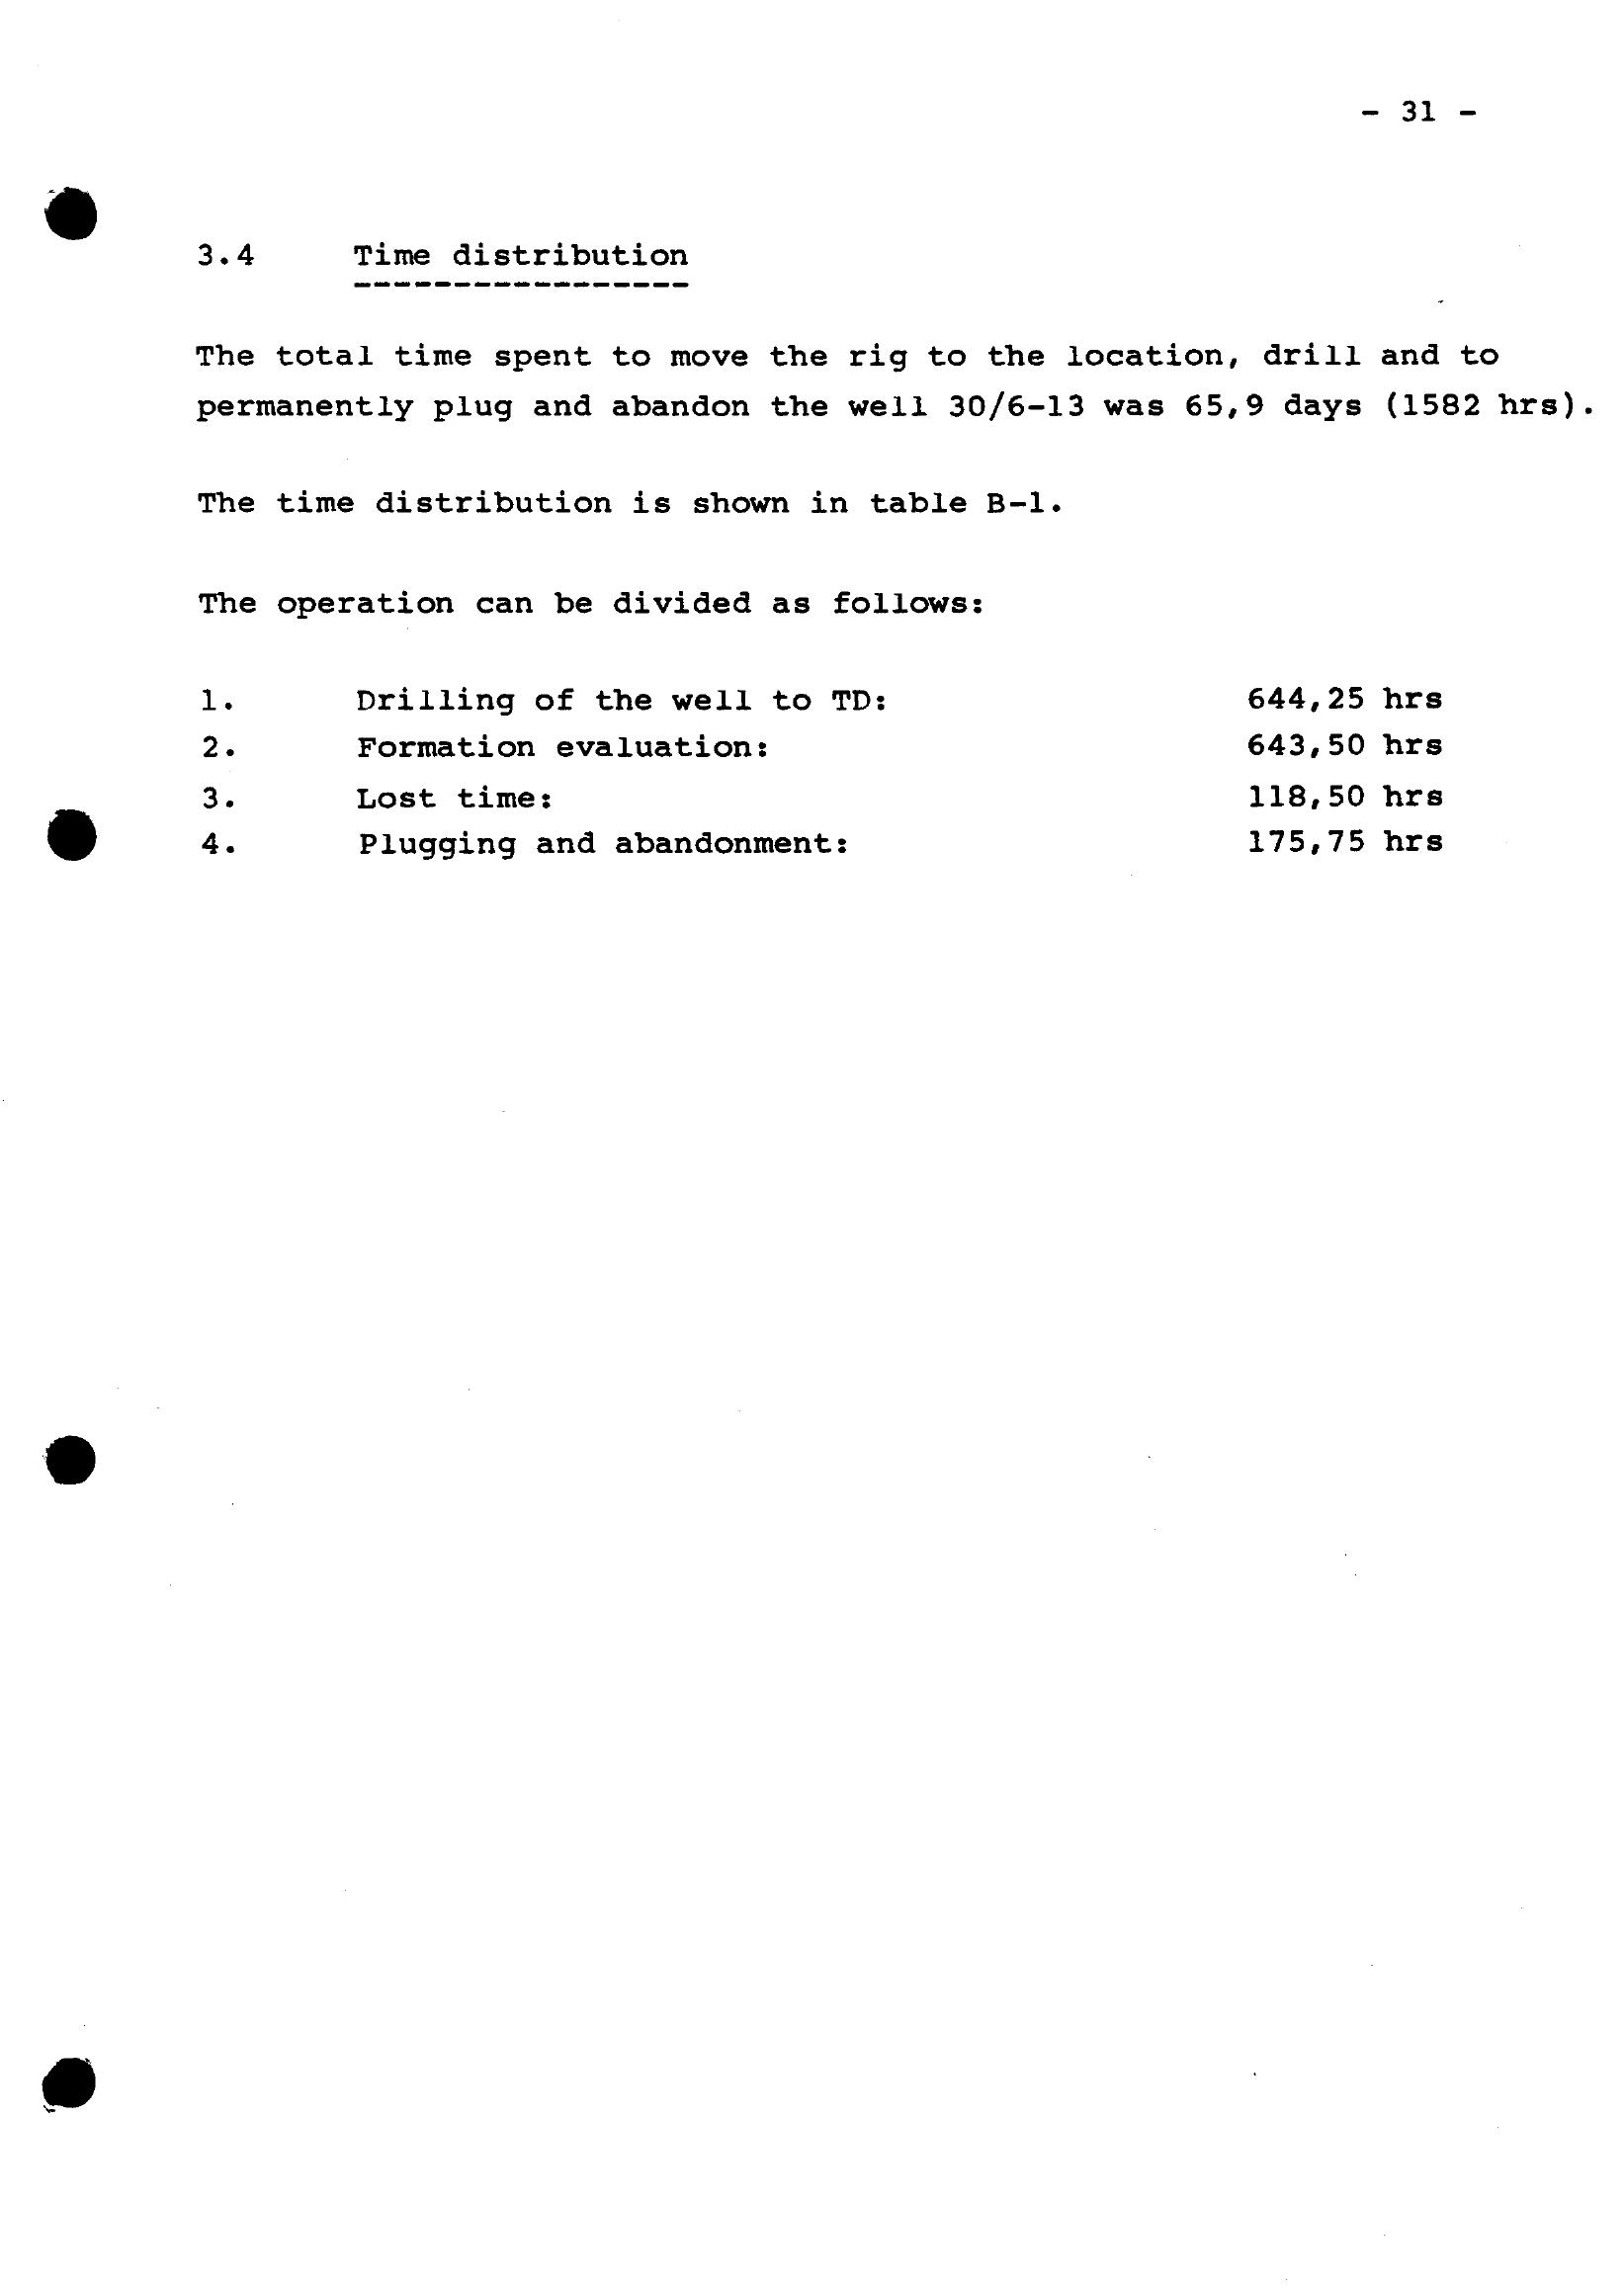text: (134, 190, 1615, 945)
